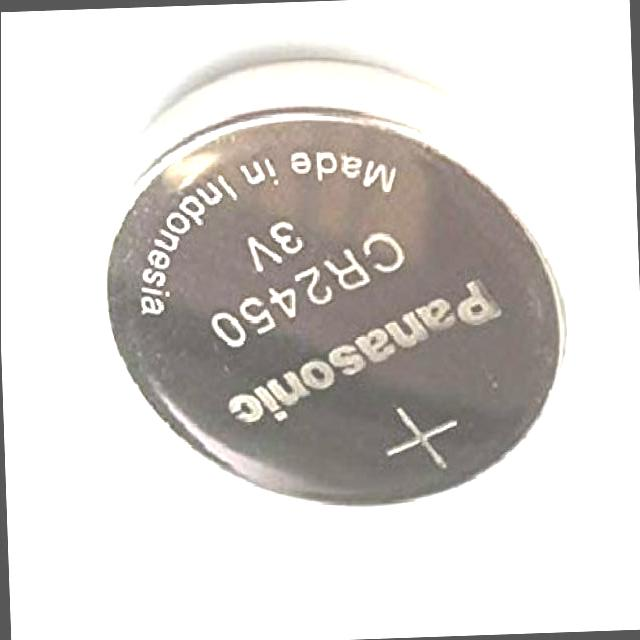COIN: (90, 48, 580, 520)
